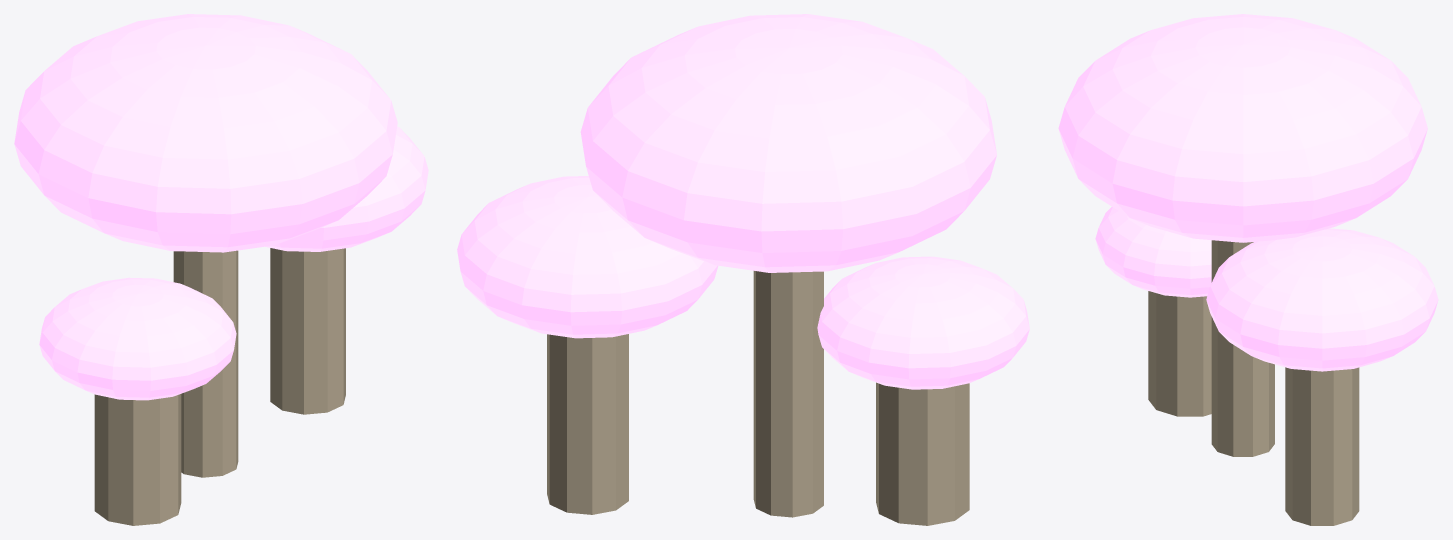
The model's file is prop_luminos_mushroom.fbx.
The picture shows the model from 3 angles, left to right: view 1: azimuth 30°, elevation 25°; view 2: azimuth 150°, elevation 25°; view 3: azimuth 270°, elevation 25°; orthographic projection. The views are drawn at different scales.
Parts seen in each view (by area): view 1: L_Mushroom_Cap_0, L_Mushroom_Cap_2, L_Mushroom_Stem_1, L_Mushroom_Stem_2, L_Mushroom_Stem_0, L_Mushroom_Cap_1; view 2: L_Mushroom_Cap_0, L_Mushroom_Cap_1, L_Mushroom_Cap_2, L_Mushroom_Stem_0, L_Mushroom_Stem_1, L_Mushroom_Stem_2; view 3: L_Mushroom_Cap_0, L_Mushroom_Cap_1, L_Mushroom_Stem_1, L_Mushroom_Stem_2, L_Mushroom_Stem_0, L_Mushroom_Cap_2.
Boxes of the visible parts, x1,y1,x2,y2 form: L_Mushroom_Cap_0: [14, 14, 397, 252]; L_Mushroom_Cap_2: [39, 277, 236, 400]; L_Mushroom_Stem_1: [270, 248, 345, 414]; L_Mushroom_Stem_2: [94, 394, 181, 525]; L_Mushroom_Stem_0: [173, 250, 238, 477]; L_Mushroom_Cap_1: [265, 126, 428, 251]; L_Mushroom_Cap_0: [580, 14, 996, 272]; L_Mushroom_Cap_1: [457, 176, 718, 338]; L_Mushroom_Cap_2: [817, 256, 1029, 389]; L_Mushroom_Stem_0: [753, 271, 823, 517]; L_Mushroom_Stem_1: [547, 334, 628, 514]; L_Mushroom_Stem_2: [876, 382, 969, 525]; L_Mushroom_Cap_0: [1058, 14, 1427, 242]; L_Mushroom_Cap_1: [1206, 228, 1438, 371]; L_Mushroom_Stem_1: [1285, 367, 1359, 525]; L_Mushroom_Stem_2: [1148, 291, 1211, 416]; L_Mushroom_Stem_0: [1211, 240, 1274, 456]; L_Mushroom_Cap_2: [1095, 207, 1211, 297].
Size of the model in its own units: 0.9 by 0.835 by 0.72.
